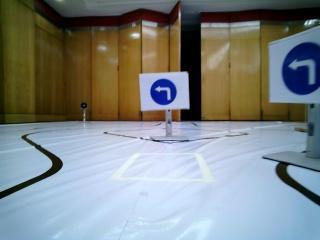left: (269, 35, 320, 100), (141, 73, 188, 108)
